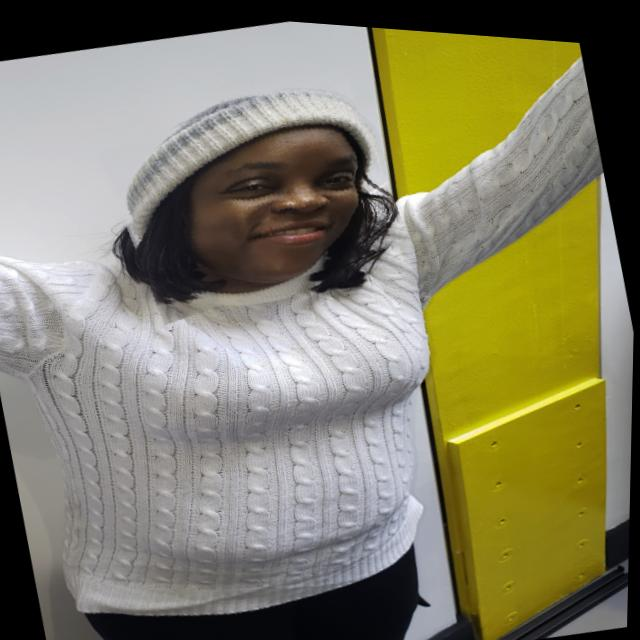happy: (95, 53, 415, 331)
